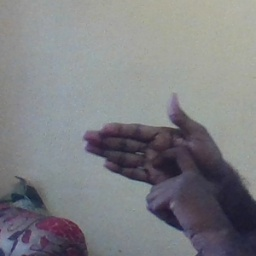R: (80, 88, 226, 223)
